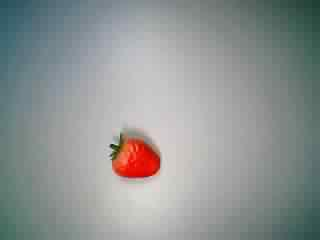strawberry: (95, 125, 166, 185)
